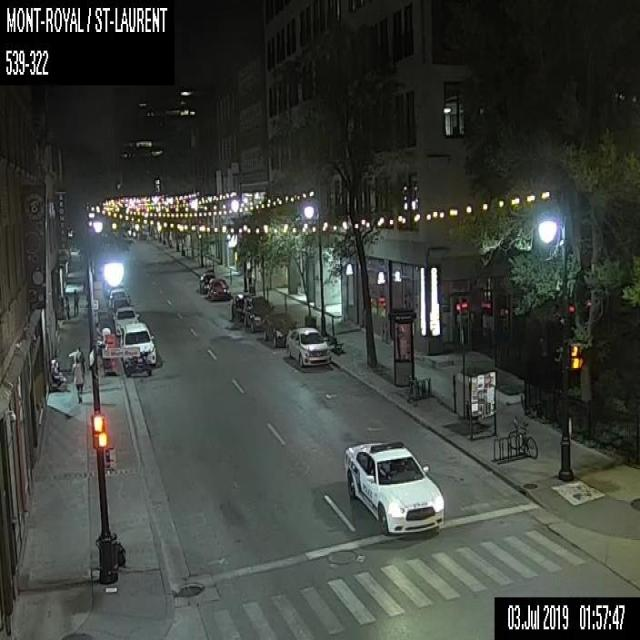construction: (104, 334, 116, 374)
pedestrian: (70, 359, 85, 404), (51, 358, 66, 387), (68, 342, 85, 361), (64, 295, 70, 320), (73, 288, 78, 315)
vehicle: (342, 439, 444, 533), (287, 325, 331, 367), (119, 322, 156, 364), (263, 314, 298, 348), (243, 296, 271, 331), (123, 351, 152, 376), (114, 307, 138, 335), (230, 293, 246, 322), (207, 277, 229, 298), (108, 289, 130, 307), (199, 274, 207, 292)
